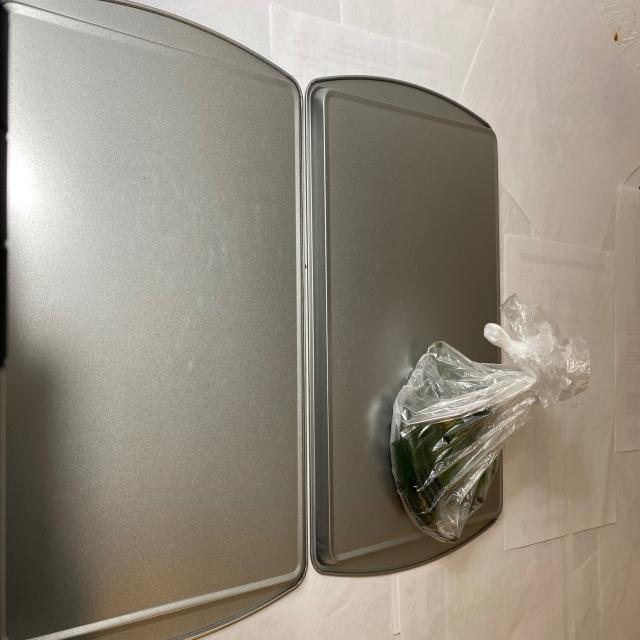chilli: (393, 342, 491, 545)
